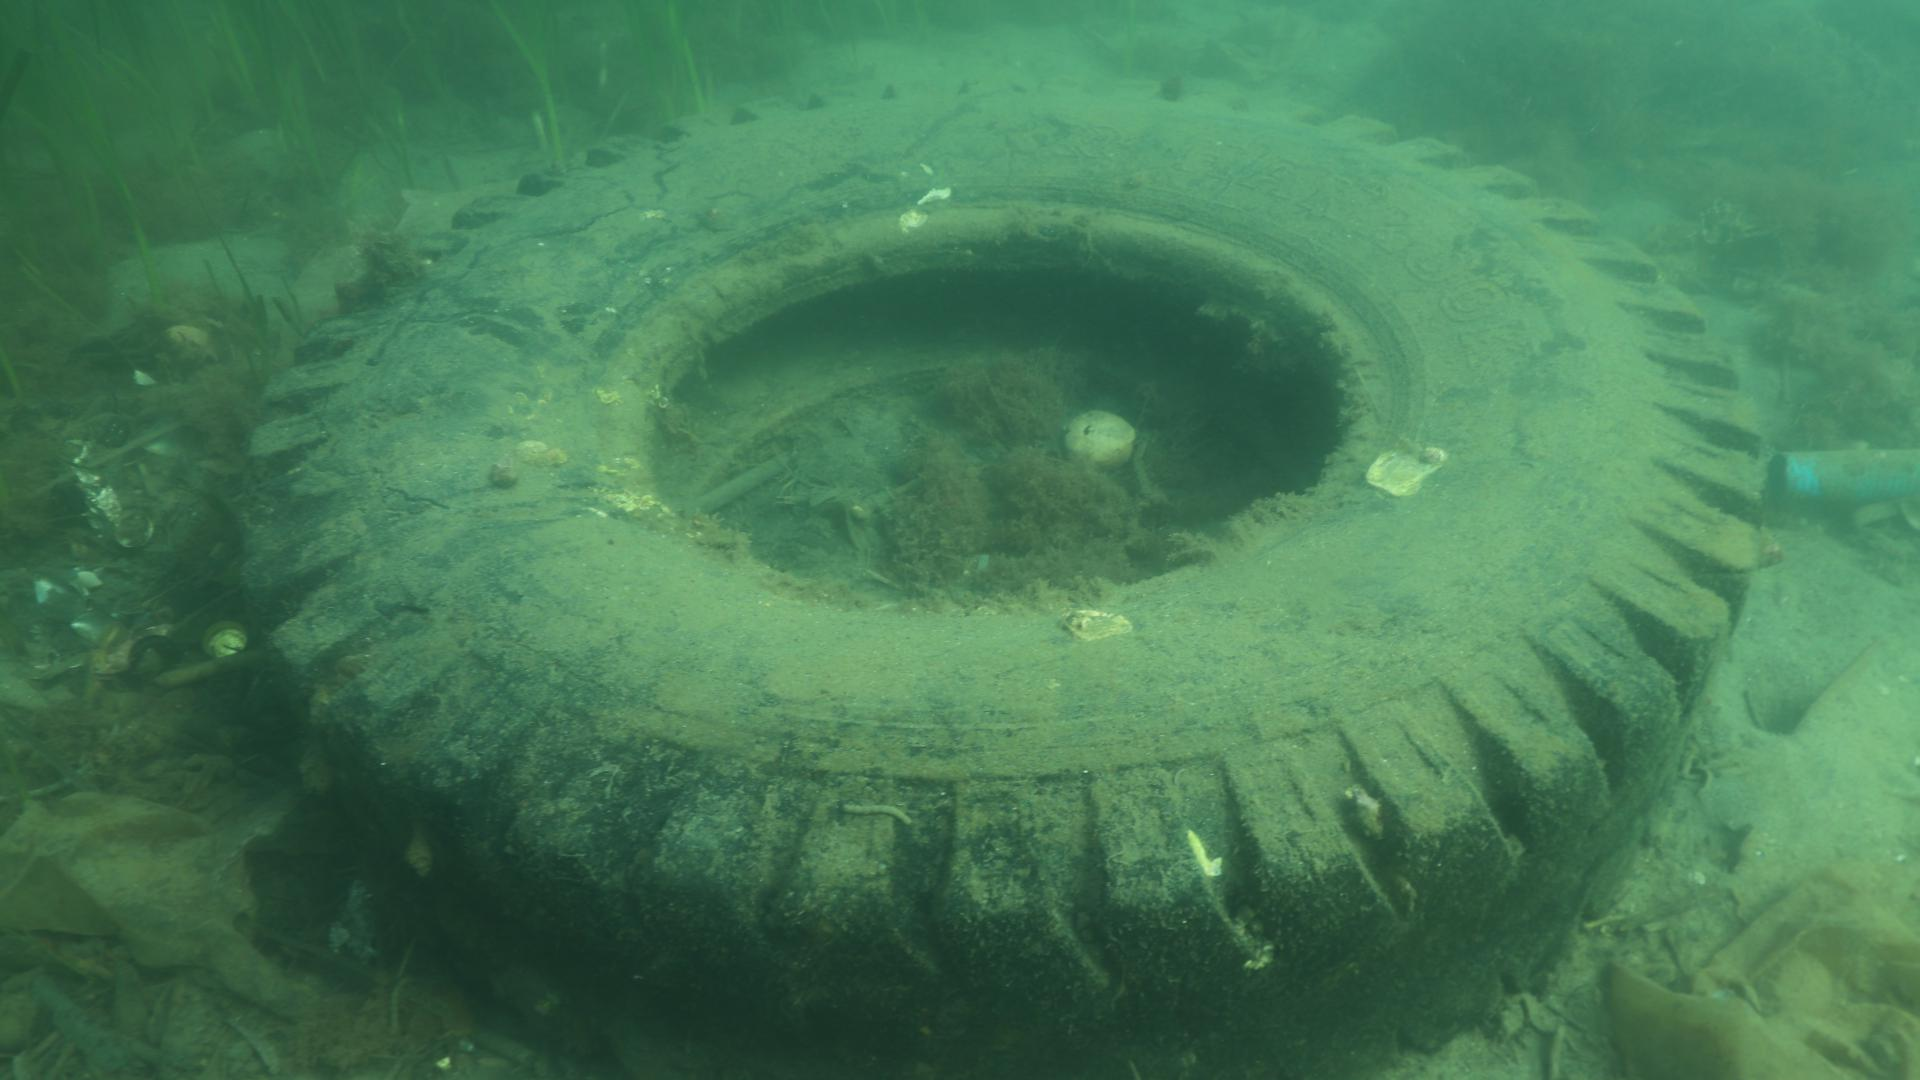tire: (243, 74, 1768, 1080)
